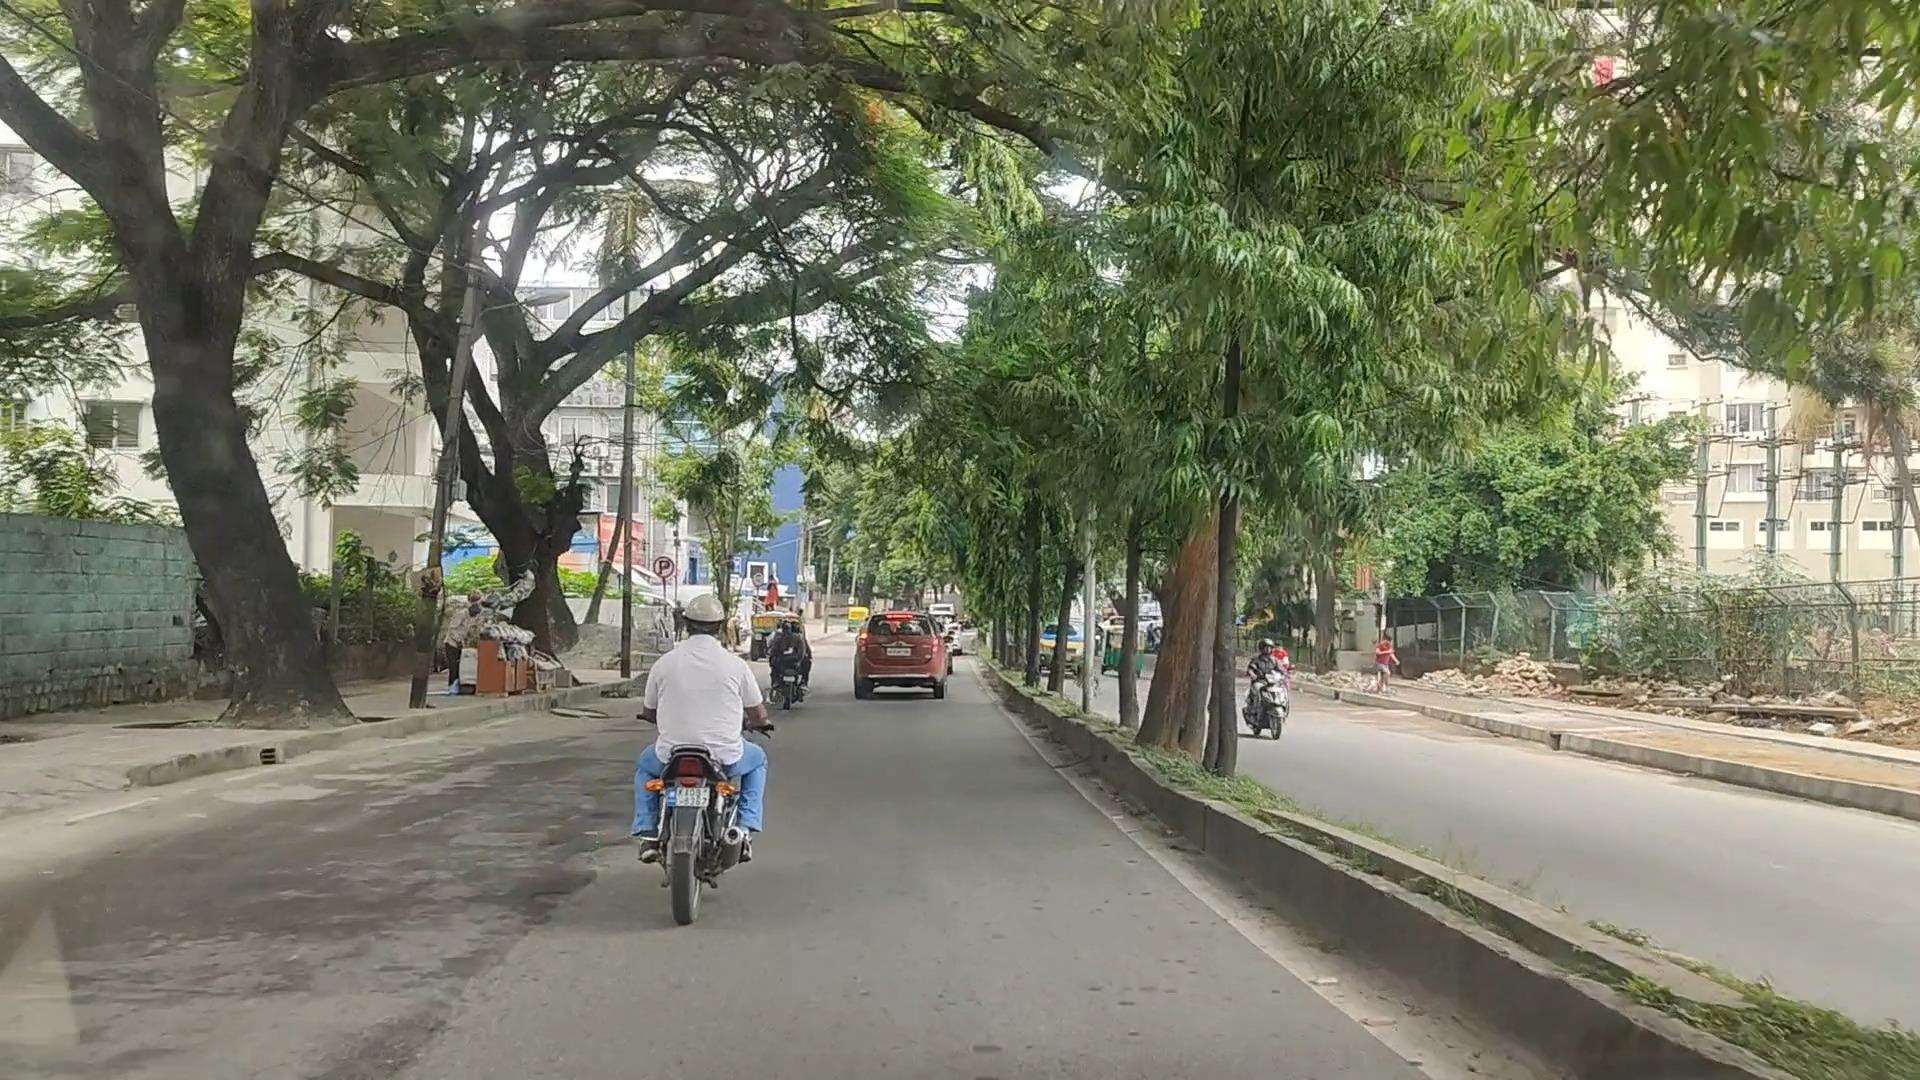LMV: (653, 592, 753, 915), (860, 611, 940, 703)
RoadDamages: (491, 835, 605, 938)
